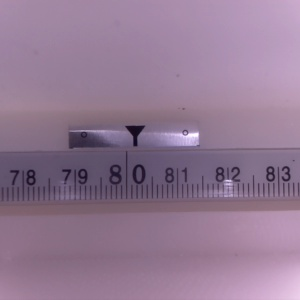0: (131, 164, 145, 184)
1: (180, 167, 187, 182)
2: (229, 166, 239, 182)
3: (280, 166, 290, 181)
7: (61, 169, 72, 184), (8, 170, 19, 185)
8: (109, 164, 122, 185), (24, 169, 35, 185), (164, 167, 174, 183), (264, 166, 274, 182), (214, 167, 224, 182)
9: (77, 168, 88, 184)
finger: (123, 126, 146, 147)
